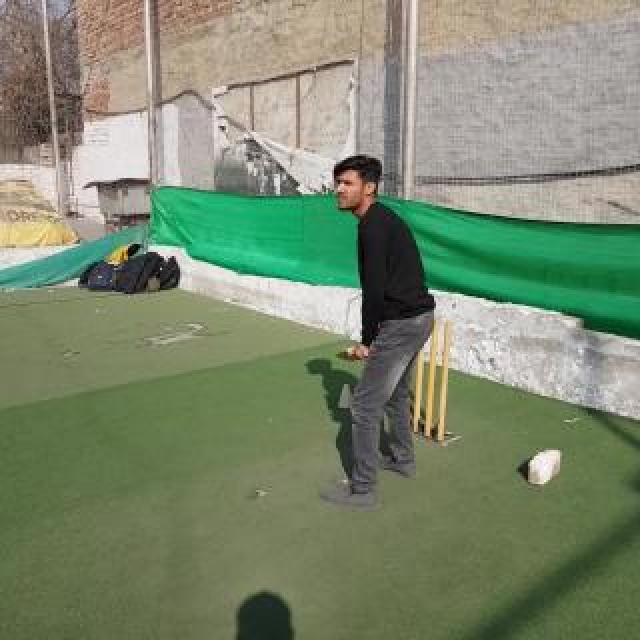bat: (336, 348, 368, 362)
